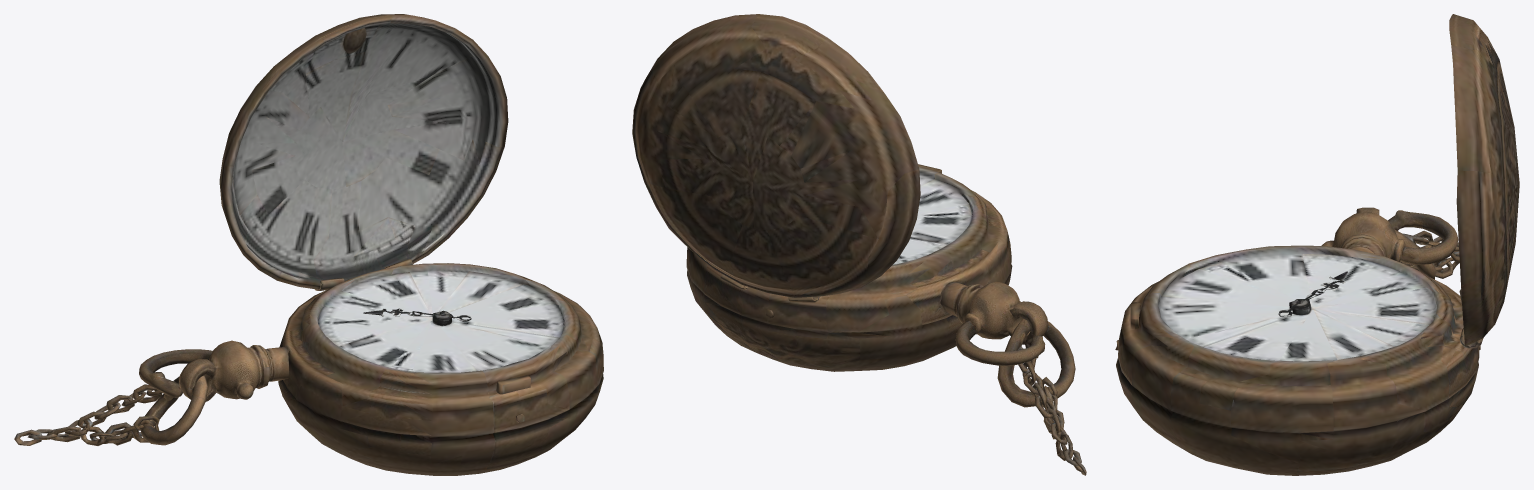
The model's file is pocket_watch.glb.
3 renders of one model, left to right at view 1: azimuth 30°, elevation 25°; view 2: azimuth 150°, elevation 25°; view 3: azimuth 270°, elevation 25°, orthographic. The views are drawn at different scales.
Size of the model in its own units: 0.08 by 0.0587 by 0.0539.
1 material, 1 textured.
